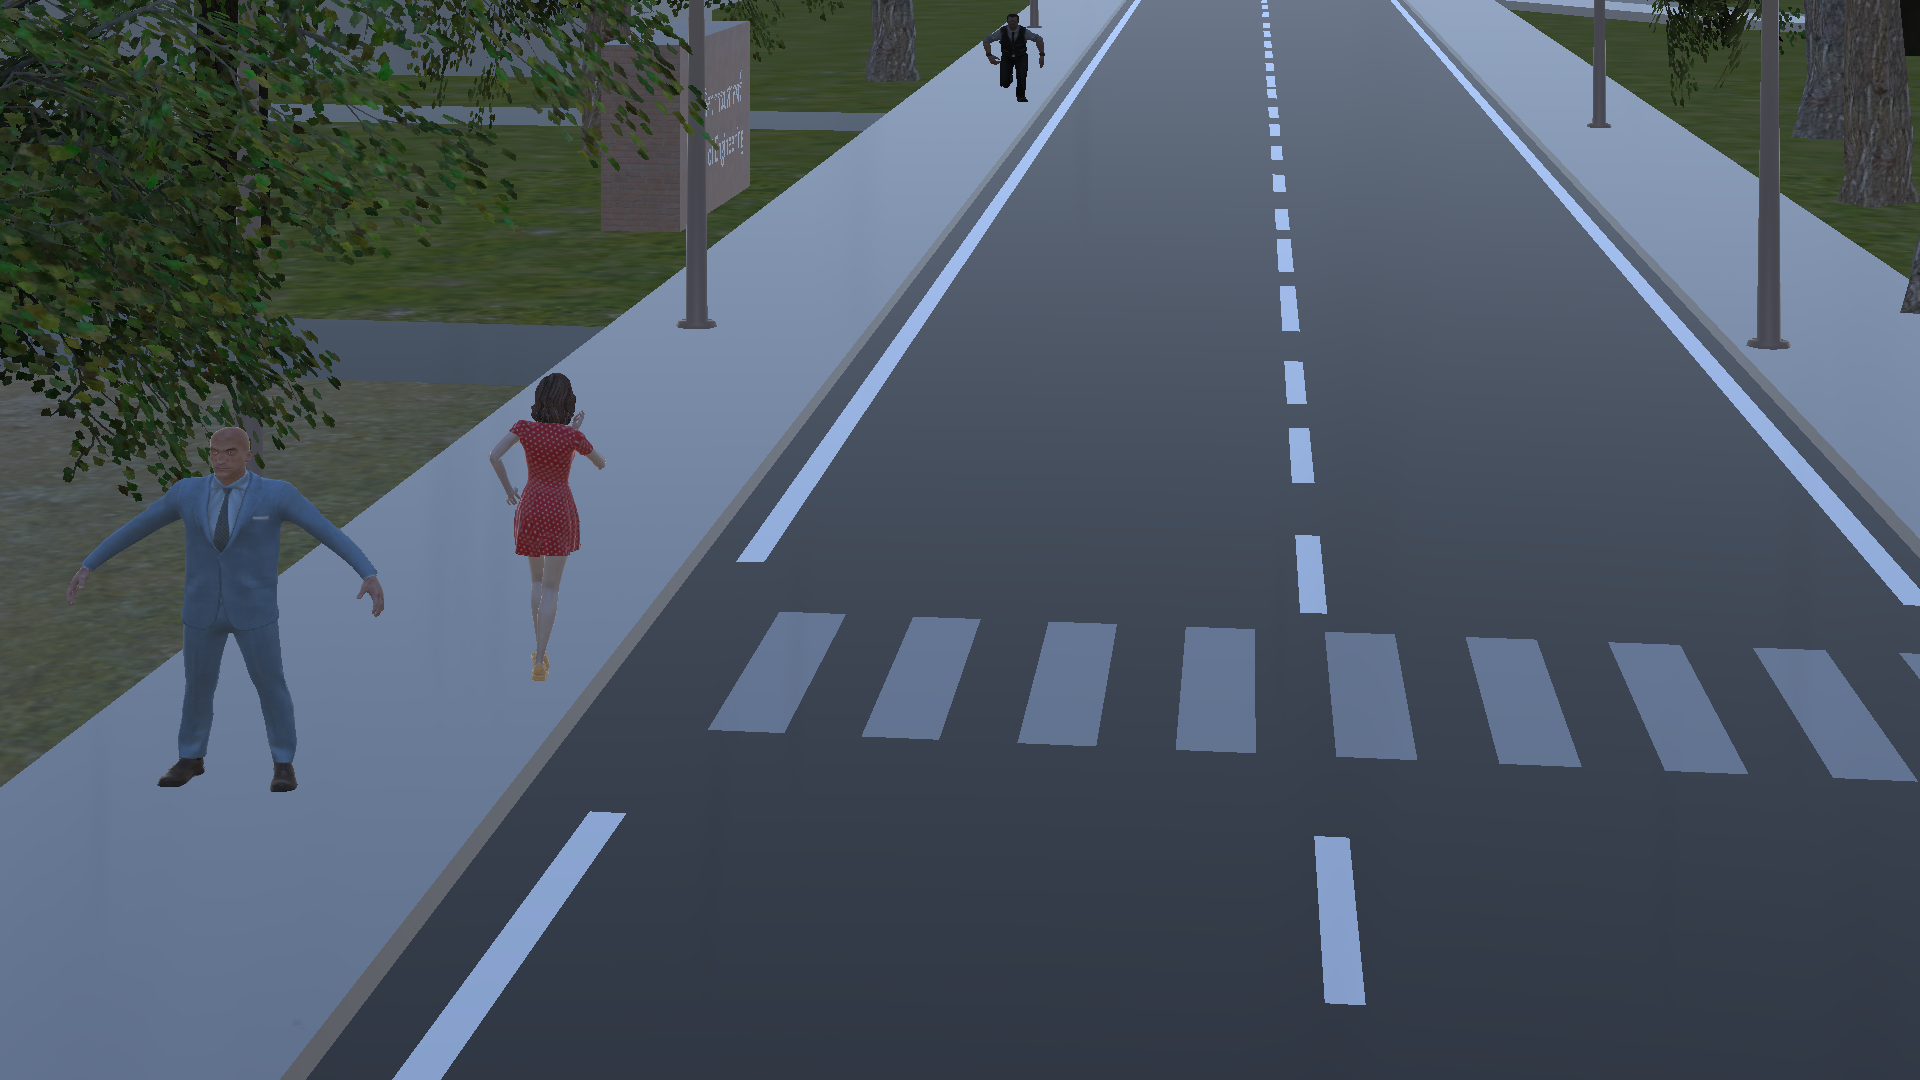pedestrian: (59, 416, 387, 816), (476, 364, 622, 725), (969, 8, 1059, 127)
